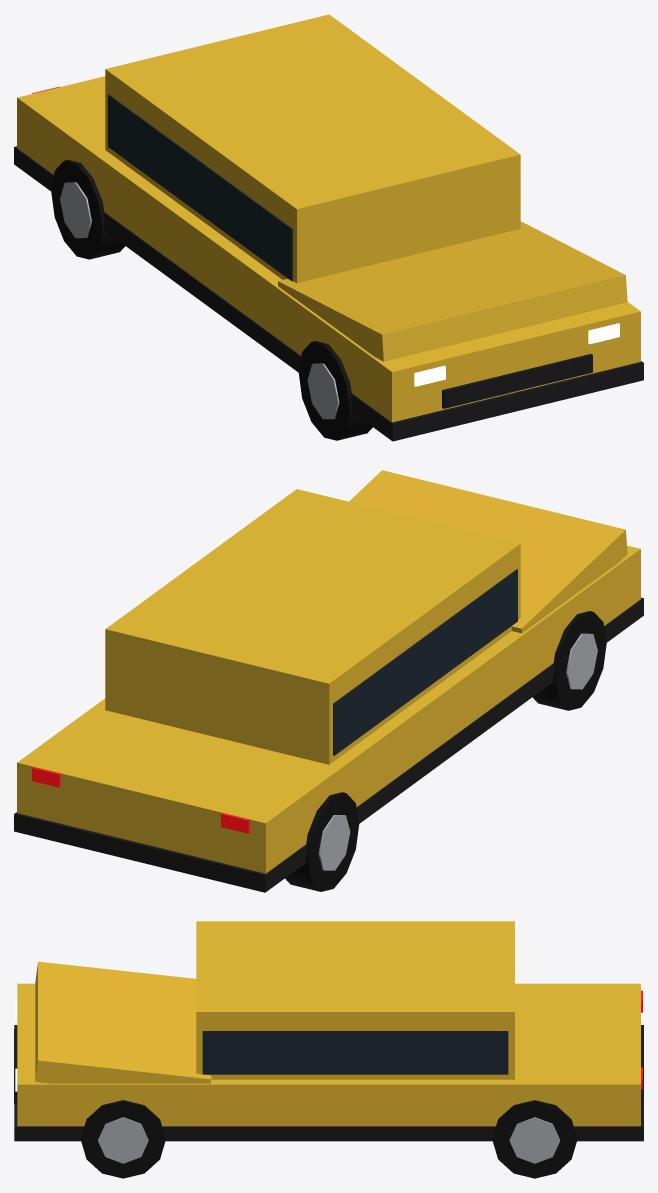
File: car_taxi.glb
3 views of the same model, one above another, from view 1: azimuth 30°, elevation 25°; view 2: azimuth 150°, elevation 25°; view 3: azimuth 270°, elevation 25° (orthographic). The views are drawn at different scales.
Parts seen in each view (by area): view 1: body, wheel_FR, wheel_RR; view 2: body, wheel_RR, wheel_FR; view 3: body, wheel_RL, wheel_FL.
Boxes of the visible parts, x1,y1,x2,y2 form: body: [14, 14, 643, 441]; wheel_FR: [298, 341, 372, 440]; wheel_RR: [51, 160, 125, 259]; body: [14, 470, 643, 892]; wheel_RR: [285, 792, 359, 891]; wheel_FR: [532, 611, 606, 710]; body: [14, 921, 643, 1141]; wheel_RL: [492, 1100, 577, 1178]; wheel_FL: [81, 1100, 165, 1178].
Size of the model in its own units: 1.88 by 1.33 by 4.75.
